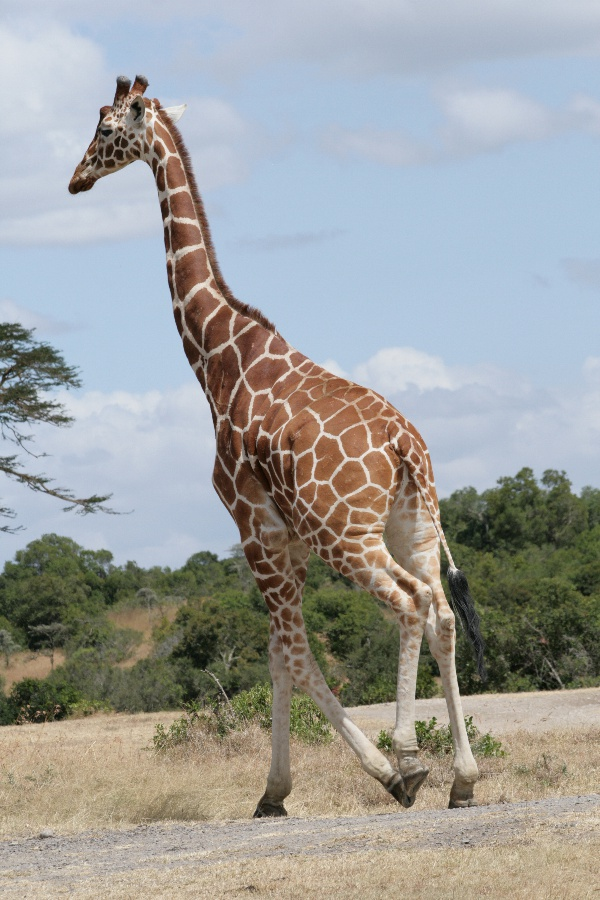giraffe: (61, 61, 496, 819)
